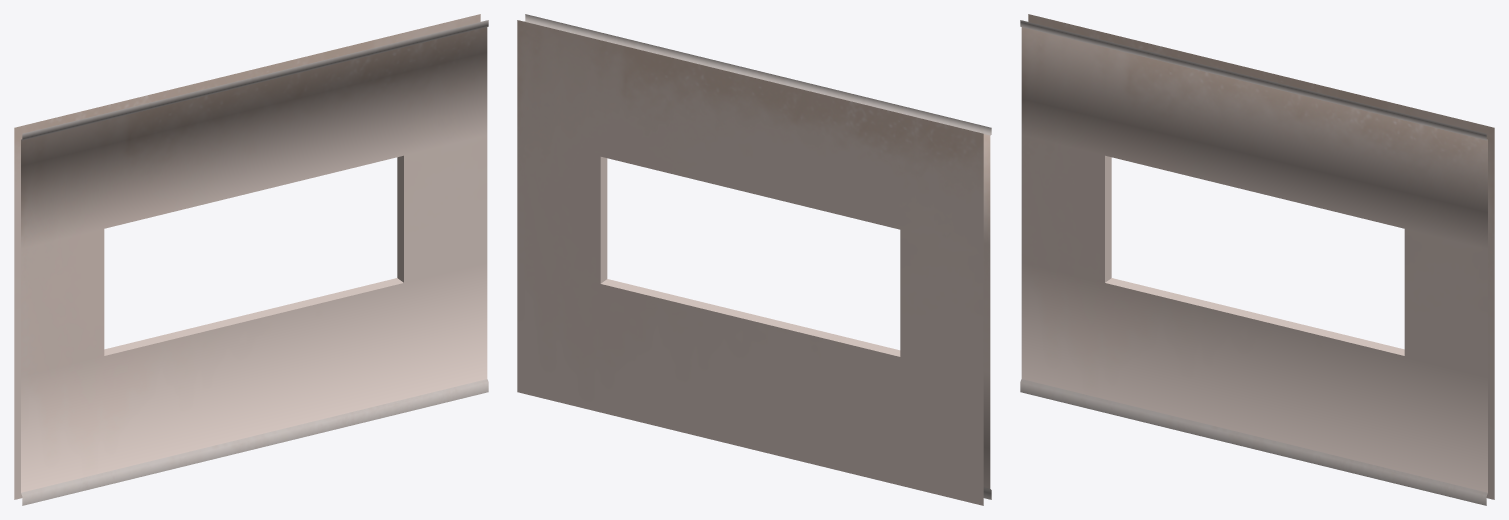
Rendered from MT_WP_Window_Wall.fbx.
3 views of the same model, side by side, from view 1: azimuth 30°, elevation 25°; view 2: azimuth 150°, elevation 25°; view 3: azimuth 330°, elevation 25° (orthographic).
Visible parts, largest first — view 1: Mi_Re.004; view 2: Mi_Re.004; view 3: Mi_Re.004.
Boxes of the visible parts, x1,y1,x2,y2 form: Mi_Re.004: (14, 14, 488, 505); Mi_Re.004: (517, 14, 991, 505); Mi_Re.004: (1020, 14, 1494, 505).
Bounding box in the file's own units: 400 × 305 × 12.04.
